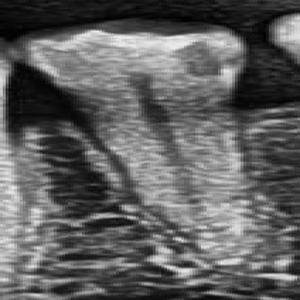tooth: (14, 20, 252, 257)
